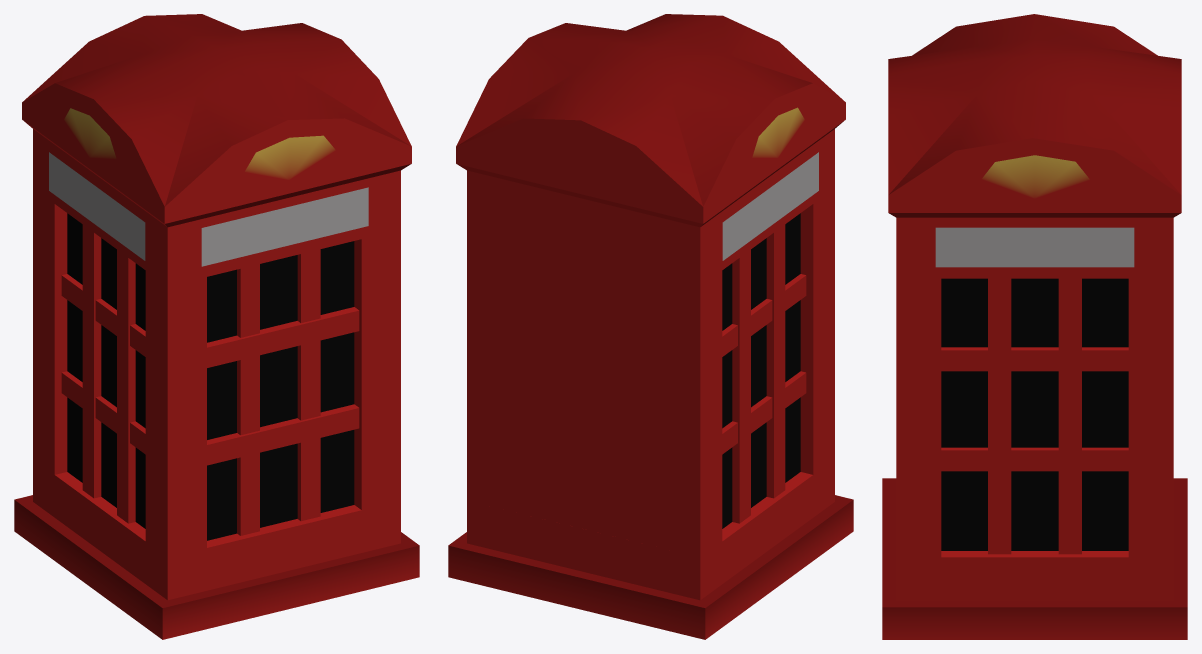
Rendered from grenade_Booth.glb.
3 renders of one model, left to right at view 1: azimuth 30°, elevation 25°; view 2: azimuth 150°, elevation 25°; view 3: azimuth 270°, elevation 25°, orthographic. The views are drawn at different scales.
Parts seen in each view (by area): view 1: grenade_Booth; view 2: grenade_Booth; view 3: grenade_Booth.
Part boxes in pixels (x1,y1,x2,y2): grenade_Booth: (14,14,419,639); grenade_Booth: (448,14,853,639); grenade_Booth: (882,14,1187,639).
Size of the model in its own units: 0.0799 by 0.1502 by 0.0799.
